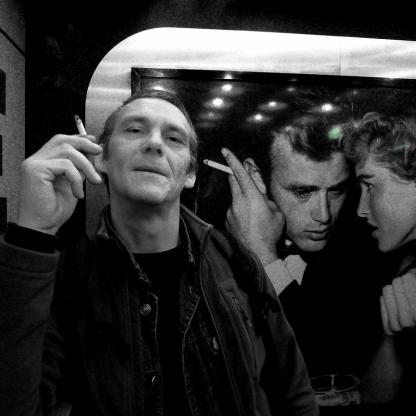smoking: (204, 160, 242, 180), (75, 116, 90, 147)
